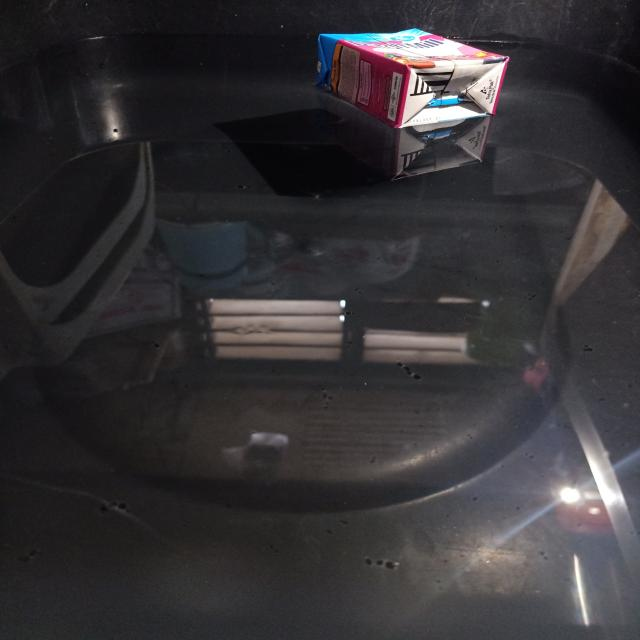Cardboard Box: (318, 28, 509, 128)
